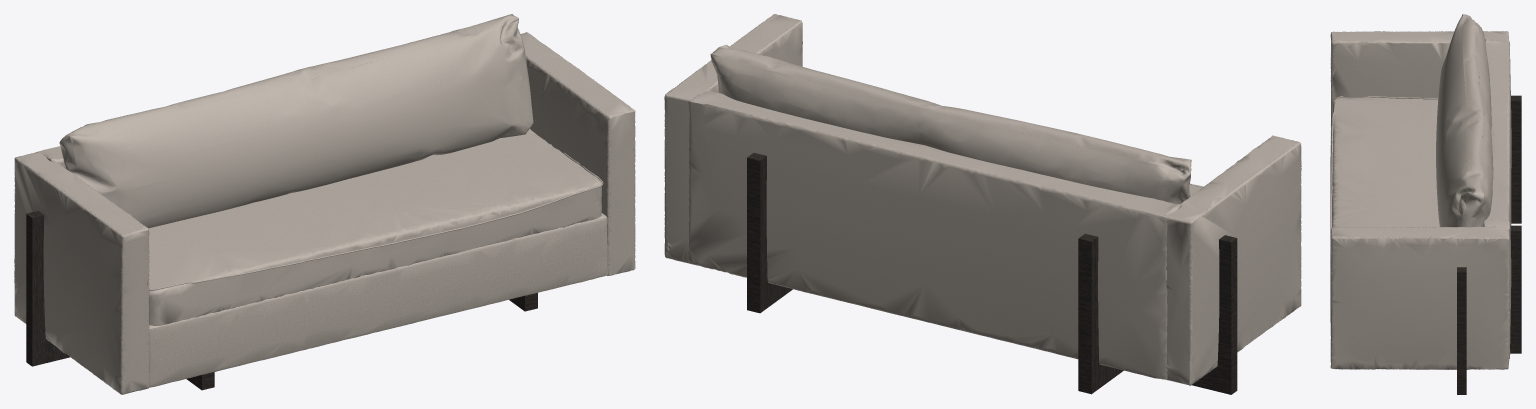
File: sofa.glb
The picture shows the model from 3 angles, left to right: view 1: azimuth 30°, elevation 25°; view 2: azimuth 150°, elevation 25°; view 3: azimuth 270°, elevation 25°; orthographic projection. The views are drawn at different scales.
Visible parts, largest first — view 1: Object_6, Object_4; view 2: Object_6, Object_4; view 3: Object_6, Object_4, Object_9.
Part boxes in pixels (box(x1,y1,x2,y2)): Object_6: box(14, 14, 635, 394); Object_4: box(26, 211, 537, 390); Object_6: box(664, 14, 1301, 385); Object_4: box(747, 153, 1237, 394); Object_6: box(1330, 14, 1511, 369); Object_4: box(1457, 95, 1521, 394); Object_9: box(1330, 31, 1509, 369).
Size of the model in its own units: 88.88 by 34.95 by 32.97.
3 materials, 2 textured.
